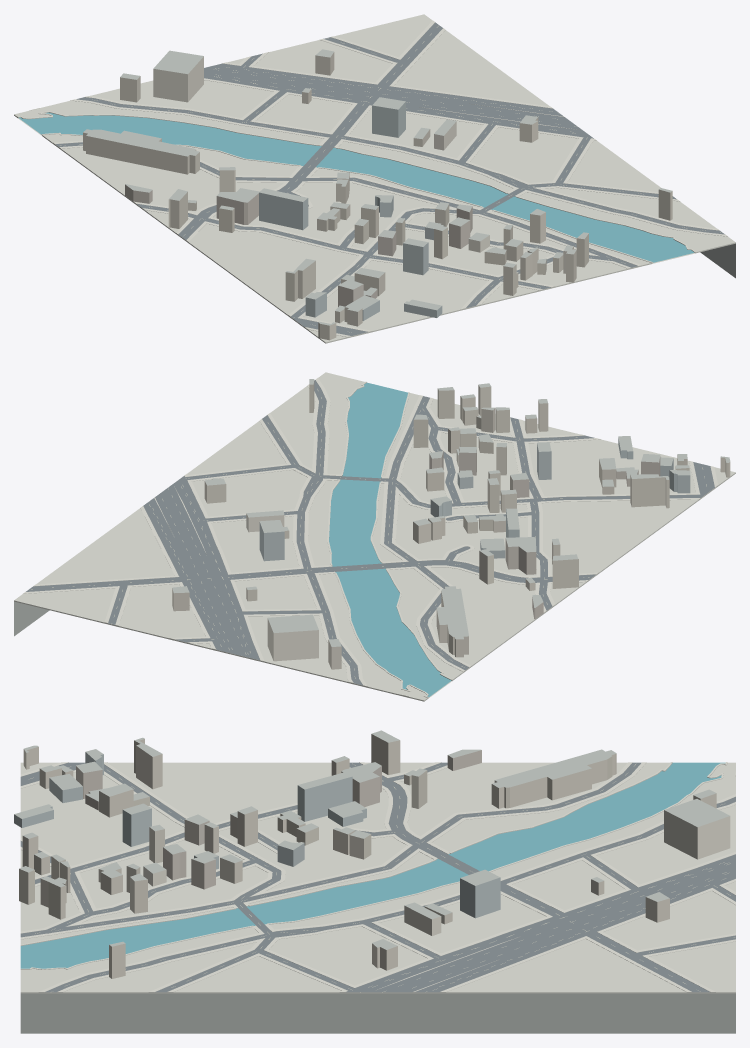
3 renders of one model, top to bottom at view 1: azimuth 30°, elevation 25°; view 2: azimuth 150°, elevation 25°; view 3: azimuth 270°, elevation 25°, orthographic. The views are drawn at different scales.
Visible parts, largest first — view 1: city; view 2: city; view 3: city.
Boxes of the visible parts, <box> form: city: <box>14,14,735,343</box>; city: <box>14,372,735,701</box>; city: <box>14,730,735,1033</box>.
Size of the model in its own units: 380 by 57 by 505.
